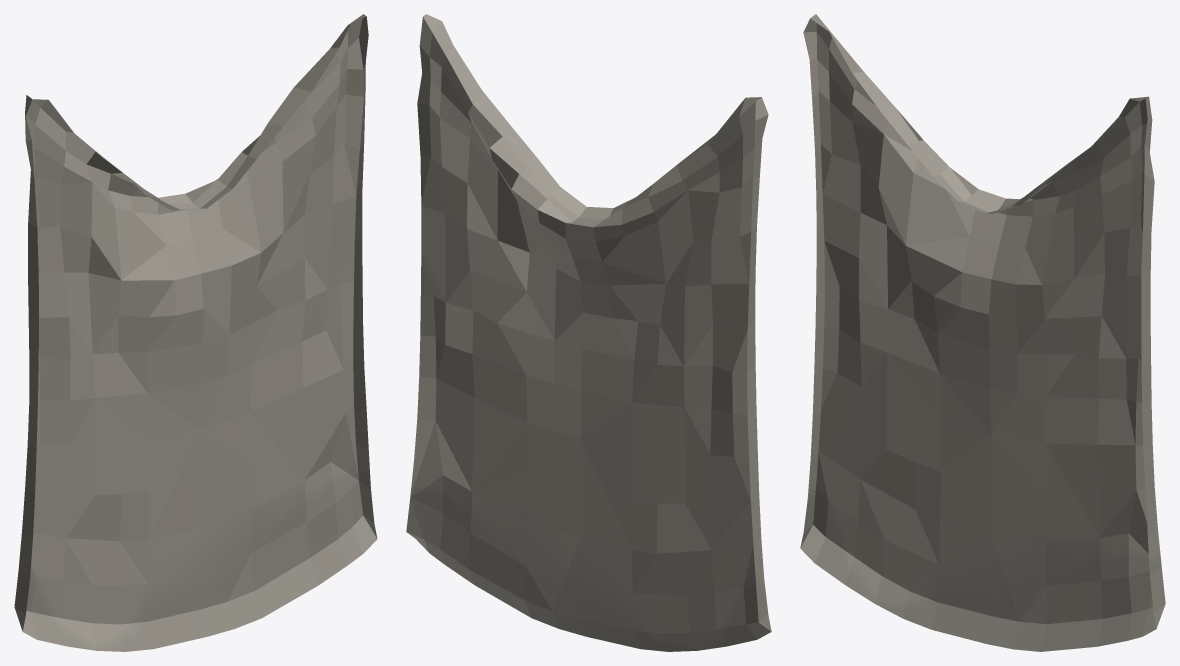
The model's file is model_cloth_drap.fbx.
The picture shows the model from 3 angles, left to right: view 1: azimuth 30°, elevation 25°; view 2: azimuth 150°, elevation 25°; view 3: azimuth 330°, elevation 25°; orthographic projection.
Visible parts, largest first — view 1: model_cloth_drap; view 2: model_cloth_drap; view 3: model_cloth_drap.
Part boxes in pixels (box(x1,y1,x2,y2)): model_cloth_drap: box(14, 14, 377, 651); model_cloth_drap: box(406, 14, 771, 651); model_cloth_drap: box(800, 14, 1165, 651).
Bounding box in the file's own units: 253 × 397 × 26.3.
Materials: 1 (1 with a texture image).
